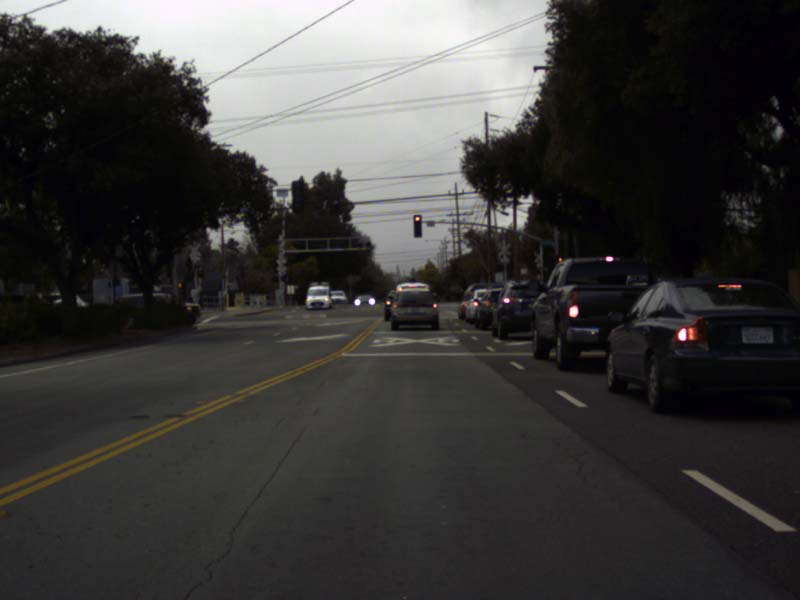Red: (413, 214, 422, 237), (556, 255, 563, 272)
